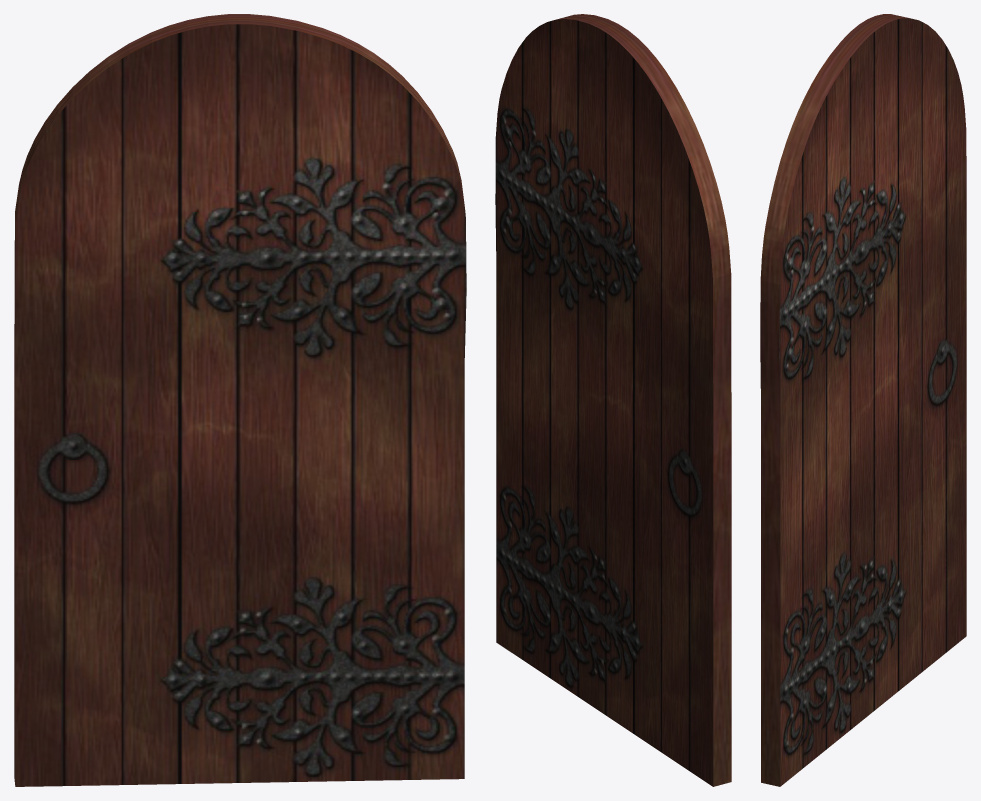
The model's file is door 8.obj.
3 views of the same model, side by side, from view 1: azimuth 30°, elevation 25°; view 2: azimuth 150°, elevation 25°; view 3: azimuth 270°, elevation 25° (orthographic). The views are drawn at different scales.
Visible parts, largest first — view 1: door_10:Mesh; view 2: door_10:Mesh; view 3: door_10:Mesh.
Part boxes in pixels (bbox=[...]): door_10:Mesh: bbox=[14, 14, 466, 786]; door_10:Mesh: bbox=[495, 14, 731, 786]; door_10:Mesh: bbox=[760, 14, 966, 786].
Bounding box in the file's own units: 58.89 × 120 × 33.01.
Materials: 1 (1 with a texture image).
